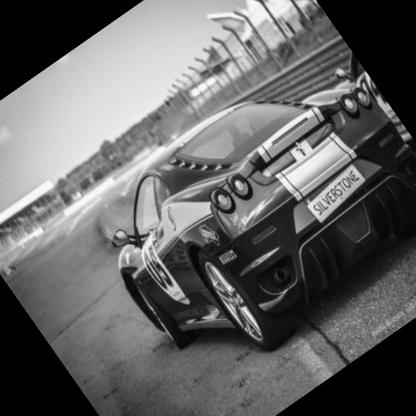car: (45, 2, 416, 406)
